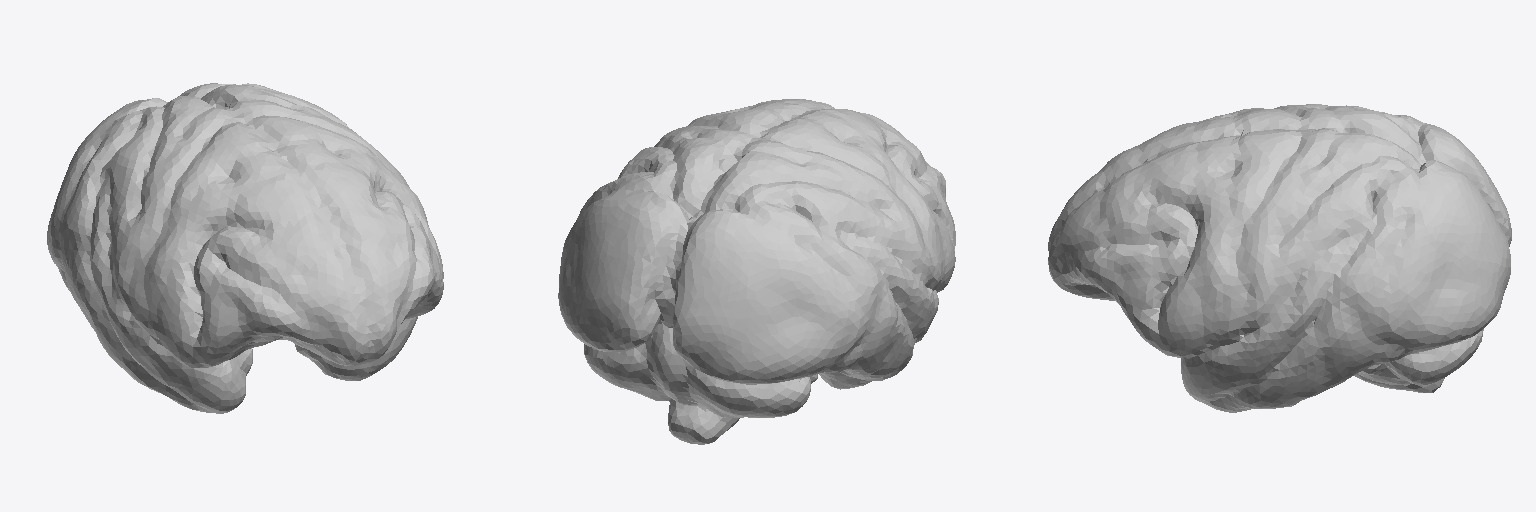
The model's file is MonkeyBrainShell.obj.
3 renders of one model, left to right at view 1: azimuth 30°, elevation 25°; view 2: azimuth 150°, elevation 25°; view 3: azimuth 270°, elevation 25°, orthographic.
Visible parts, largest first — view 1: default; view 2: default; view 3: default.
Part boxes in pixels (bbox=[...]): default: bbox=[47, 83, 443, 413]; default: bbox=[558, 99, 955, 444]; default: bbox=[1048, 104, 1511, 412].
Size of the model in its own units: 364 by 299 by 474.